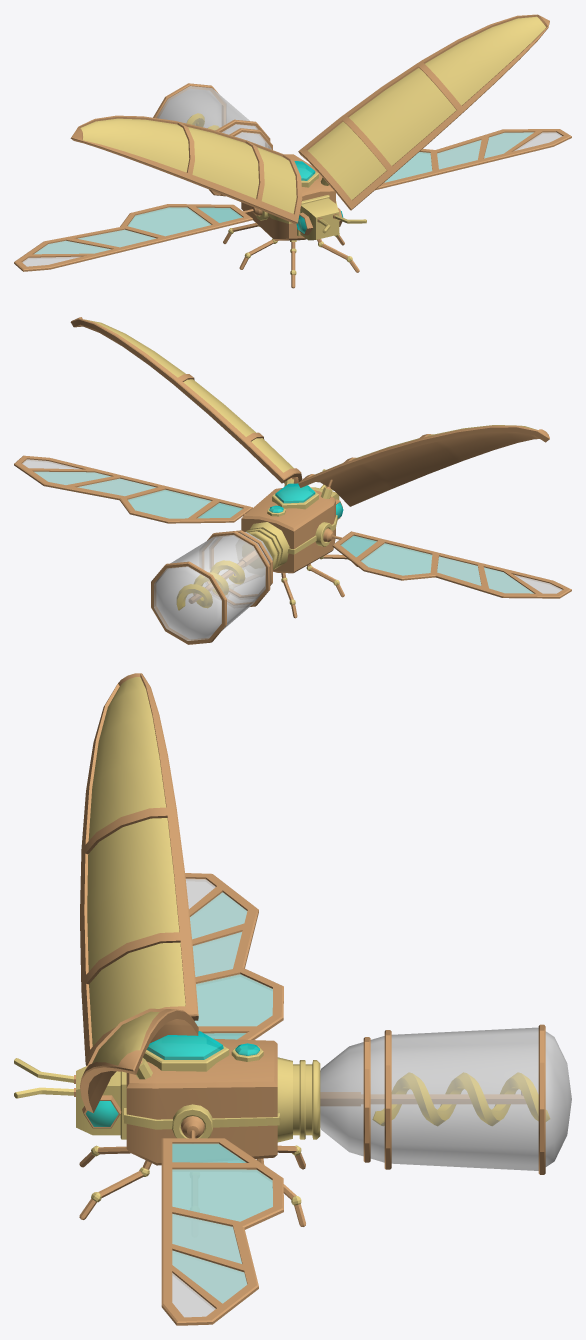
The model's file is KayMechFirefly.fbx.
3 renders of one model, top to bottom at view 1: azimuth 30°, elevation 25°; view 2: azimuth 150°, elevation 25°; view 3: azimuth 270°, elevation 25°, orthographic. The views are drawn at different scales.
Visible parts, largest first — view 1: UpperCasing (×2), Wing (×2), Bulb, Body, Head, BulbCoilEnd, BackGem; view 2: Wing (×2), UpperCasing (×2), Bulb, Body, BulbCoilEnd, BulbScrews, pHelix1, BackGem, BulbCoilMid, BulbCoilFront; view 3: UpperCasing (×2), Bulb, Wing (×2), Body, pHelix1, BulbScrews, BackGem, Head, pCylinder7, BulbCoilEnd, BulbCoilMid, BulbCoilFront (+2 smaller).
Boxes of the visible parts, bbox=[...] form: UpperCasing (×2): bbox=[70, 14, 549, 223]; Wing (×2): bbox=[14, 129, 571, 271]; Bulb: bbox=[157, 86, 271, 149]; Body: bbox=[241, 154, 337, 240]; Head: bbox=[297, 195, 339, 240]; BulbCoilEnd: bbox=[153, 83, 225, 132]; BackGem: bbox=[294, 161, 318, 187]; Wing (×2): bbox=[14, 455, 571, 598]; UpperCasing (×2): bbox=[70, 317, 549, 506]; Bulb: bbox=[154, 532, 272, 640]; Body: bbox=[241, 488, 337, 573]; BulbCoilEnd: bbox=[151, 561, 226, 644]; BulbScrews: bbox=[242, 522, 289, 569]; pHelix1: bbox=[177, 560, 244, 609]; BackGem: bbox=[272, 483, 318, 509]; BulbCoilMid: bbox=[201, 531, 270, 606]; BulbCoilFront: bbox=[210, 530, 272, 597]; UpperCasing (×2): bbox=[80, 673, 198, 1113]; Bulb: bbox=[320, 1027, 571, 1170]; Wing (×2): bbox=[161, 873, 283, 1325]; Body: bbox=[123, 1038, 280, 1165]; pHelix1: bbox=[372, 1072, 549, 1125]; BulbScrews: bbox=[277, 1057, 320, 1142]; BackGem: bbox=[143, 1031, 229, 1071]; Head: bbox=[76, 1066, 126, 1139]; pCylinder7: bbox=[320, 1092, 526, 1105]; BulbCoilEnd: bbox=[538, 1024, 545, 1174]; BulbCoilMid: bbox=[384, 1030, 391, 1169]; BulbCoilFront: bbox=[363, 1037, 370, 1162].
Size of the model in its own units: 19.55 by 6.86 by 10.24.
